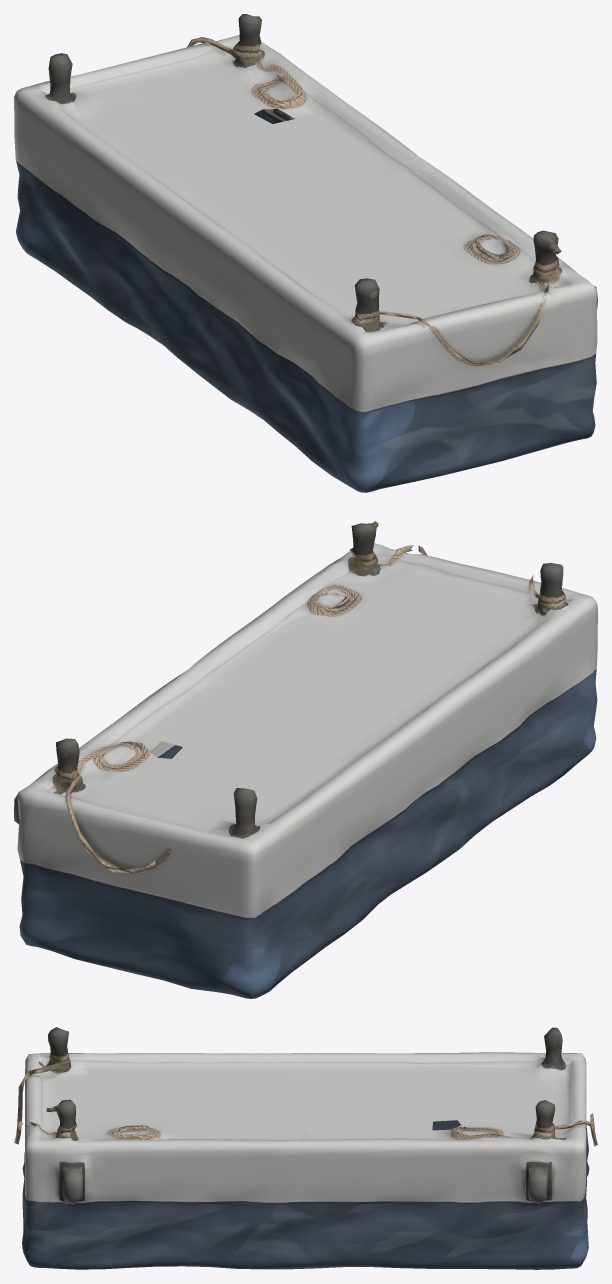
Rendered from modular_kai.fbx.
3 views of the same model, one above another, from view 1: azimuth 30°, elevation 25°; view 2: azimuth 150°, elevation 25°; view 3: azimuth 270°, elevation 25° (orthographic). The views are drawn at different scales.
Parts seen in each view (by area): view 1: modular_kai; view 2: modular_kai; view 3: modular_kai.
Boxes of the visible parts, left/top/right/bottom form: modular_kai: left=14, top=14, right=597, bottom=492; modular_kai: left=14, top=521, right=597, bottom=998; modular_kai: left=14, top=1027, right=597, bottom=1269.
Bounding box in the file's own units: 1.96 × 1.38 × 4.55.
Materials: 1 (1 with a texture image).
